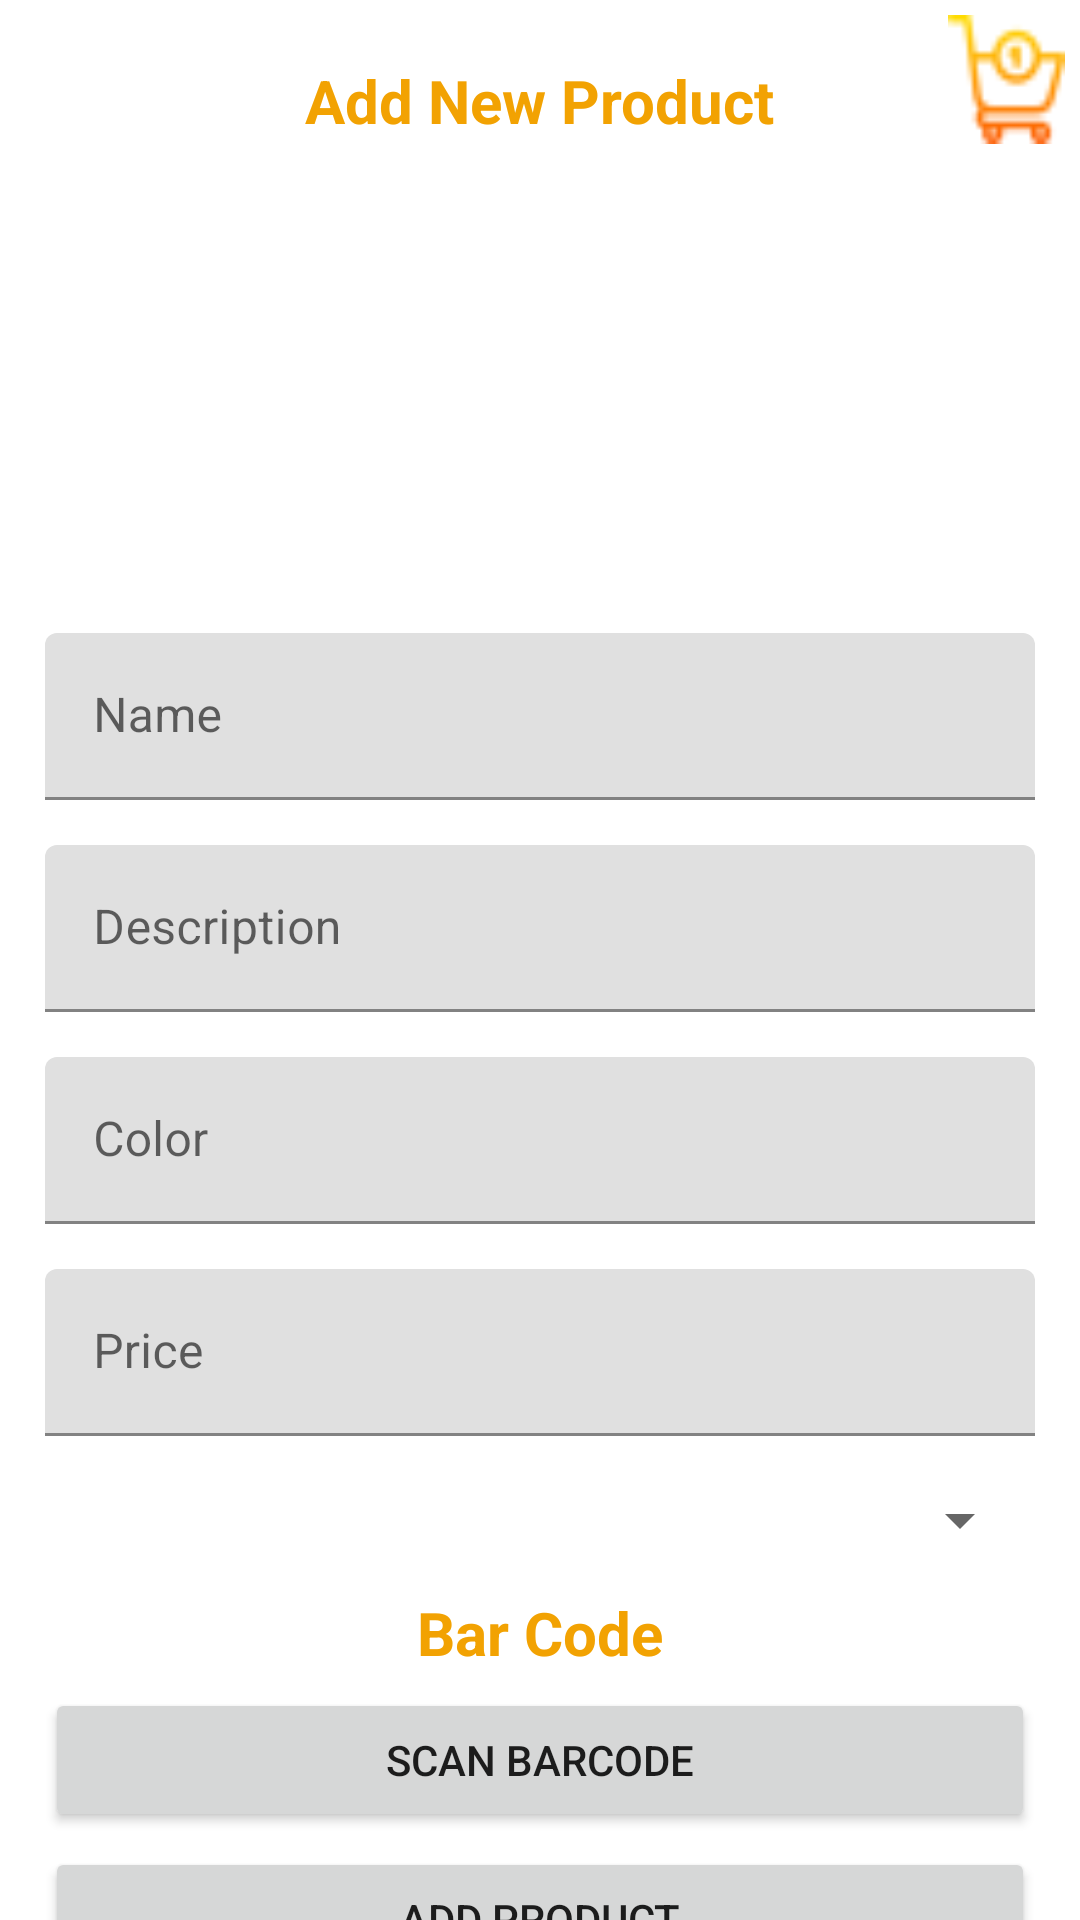

Screen size 1080 × 1920. Icon name, then its center in pixels as (x=x, y=y):
addcart: (x=1006, y=79)
